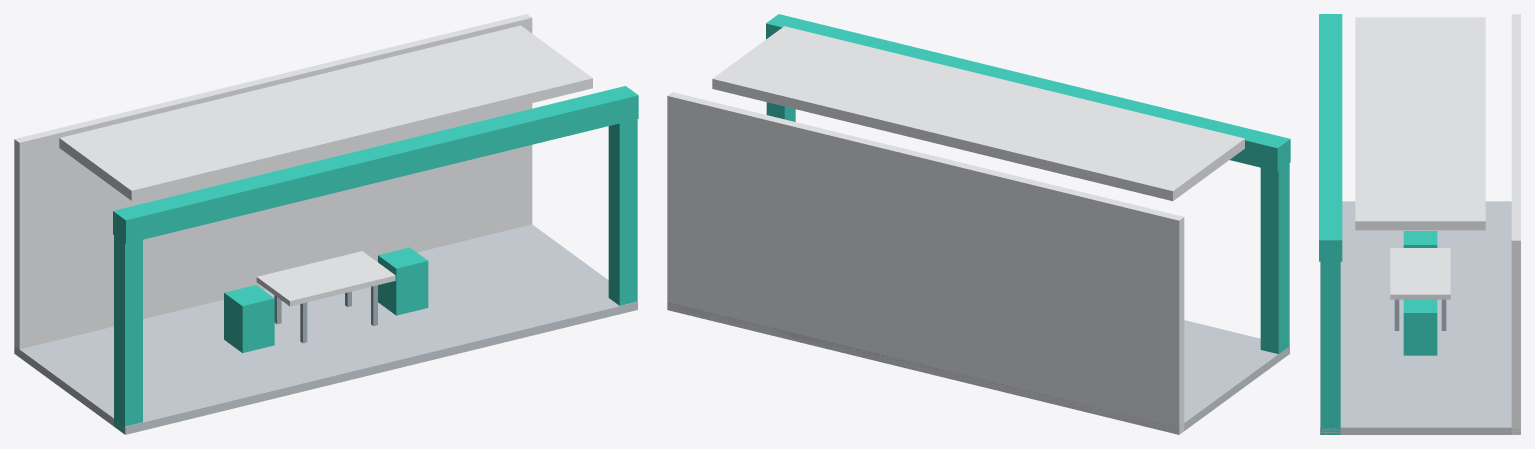
The picture shows the model from 3 angles, left to right: view 1: azimuth 30°, elevation 25°; view 2: azimuth 150°, elevation 25°; view 3: azimuth 270°, elevation 25°; orthographic projection. The views are drawn at different scales.
Visible parts, largest first — view 1: Exhibition Booth Concept; view 2: Exhibition Booth Concept; view 3: Exhibition Booth Concept.
Part boxes in pixels (left/top/right/bottom): Exhibition Booth Concept: left=14, top=14, right=638, bottom=434; Exhibition Booth Concept: left=667, top=14, right=1290, bottom=434; Exhibition Booth Concept: left=1319, top=14, right=1520, bottom=434.
Size of the model in its own units: 8 by 3.34 by 3.01.
